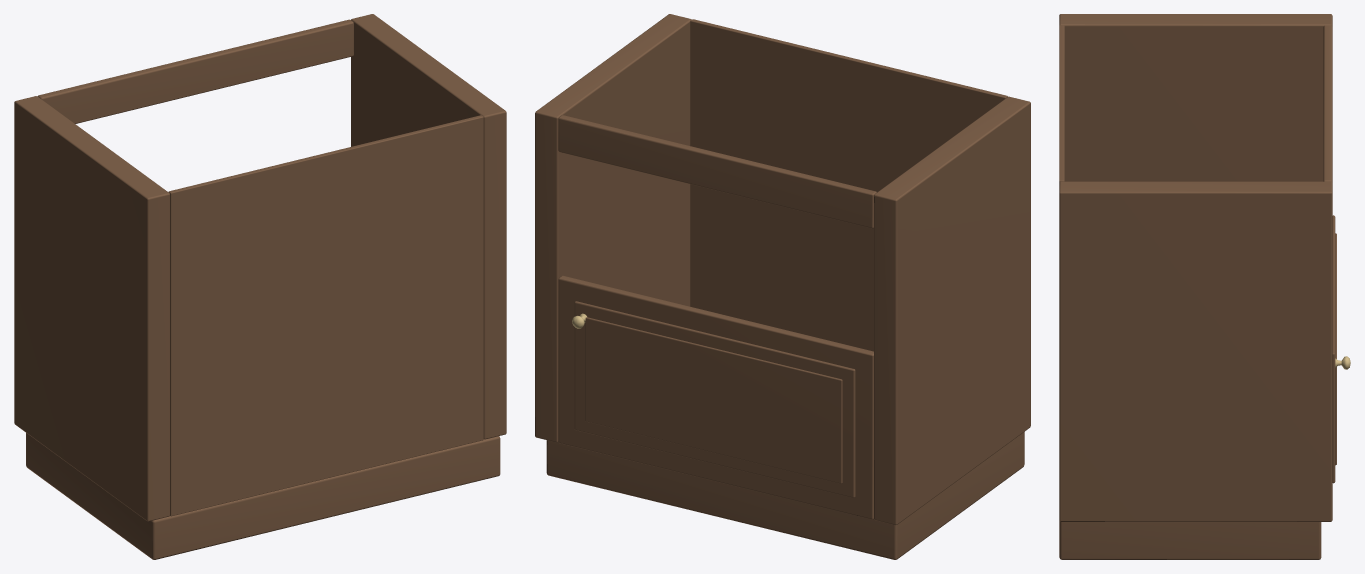
The model's file is lp_case_cabinet.glb.
The picture shows the model from 3 angles, left to right: view 1: azimuth 30°, elevation 25°; view 2: azimuth 150°, elevation 25°; view 3: azimuth 270°, elevation 25°; orthographic projection. The views are drawn at different scales.
Parts seen in each view (by area): view 1: lp_case_cabinet; view 2: lp_case_cabinet; view 3: lp_case_cabinet.
Part boxes in pixels (x1,y1,x2,y2): lp_case_cabinet: (14, 14, 506, 559); lp_case_cabinet: (535, 14, 1030, 559); lp_case_cabinet: (1059, 14, 1350, 559).
Size of the model in its own units: 0.93 by 0.9 by 0.64.
